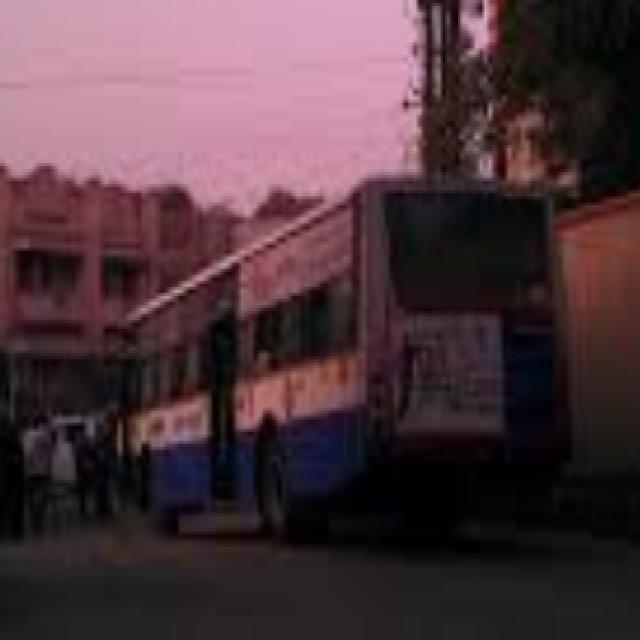bus_back: (93, 174, 566, 548)
